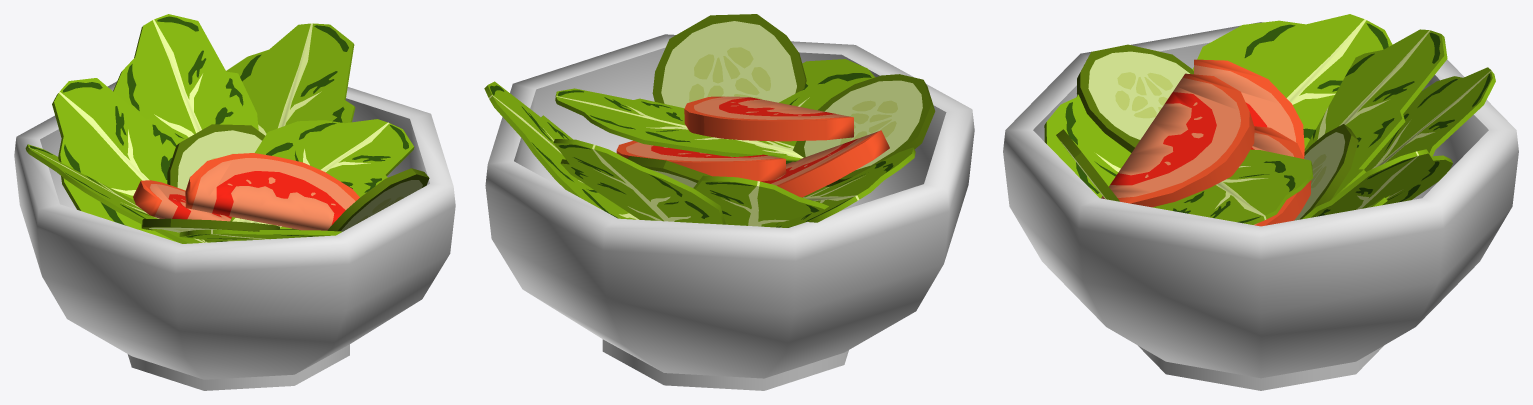
Rendered from Saladbowl.fbx.
The picture shows the model from 3 angles, left to right: view 1: azimuth 30°, elevation 25°; view 2: azimuth 150°, elevation 25°; view 3: azimuth 270°, elevation 25°; orthographic projection. The views are drawn at different scales.
Parts seen in each view (by area): view 1: Saladbowl; view 2: Saladbowl; view 3: Saladbowl.
Boxes of the visible parts, bbox=[...] form: Saladbowl: bbox=[14, 14, 455, 390]; Saladbowl: bbox=[484, 14, 974, 390]; Saladbowl: bbox=[1003, 14, 1518, 390].
Size of the model in its own units: 46.18 by 27.24 by 46.18.
